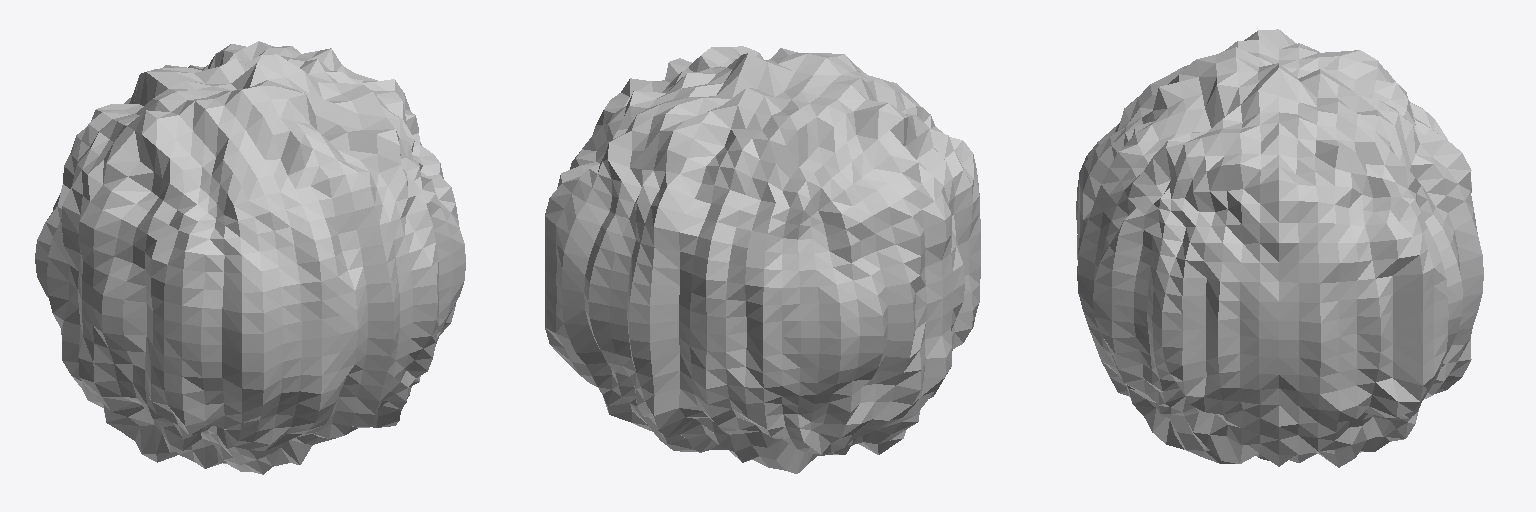
File: asteroid52.obj
3 views of the same model, side by side, from view 1: azimuth 30°, elevation 25°; view 2: azimuth 150°, elevation 25°; view 3: azimuth 270°, elevation 25° (orthographic).
Parts seen in each view (by area): view 1: Cube_Cube.002; view 2: Cube_Cube.002; view 3: Cube_Cube.002.
Boxes of the visible parts, box(x1,y1,x2,y2) form: Cube_Cube.002: box(35, 41, 465, 474); Cube_Cube.002: box(545, 46, 980, 473); Cube_Cube.002: box(1076, 29, 1483, 467).
Bounding box in the file's own units: 1.72 × 1.83 × 1.71.